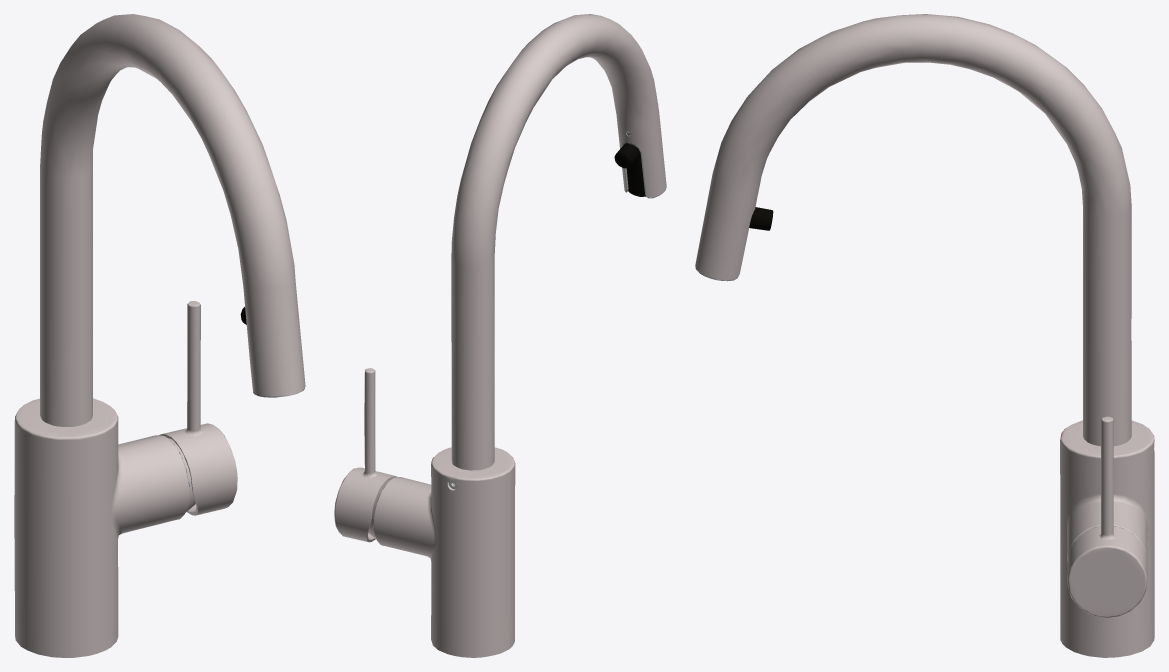
Rendered from sallsjon_bateria_z_wyciagana_wylewka_90608937.glb.
3 renders of one model, left to right at view 1: azimuth 30°, elevation 25°; view 2: azimuth 150°, elevation 25°; view 3: azimuth 270°, elevation 25°, orthographic. The views are drawn at different scales.
Parts seen in each view (by area): view 1: sallsjon_bateria_z_wyciagana_wylewka_90608937; view 2: sallsjon_bateria_z_wyciagana_wylewka_90608937; view 3: sallsjon_bateria_z_wyciagana_wylewka_90608937.
Part boxes in pixels (bbox=[...]): sallsjon_bateria_z_wyciagana_wylewka_90608937: bbox=[14, 14, 305, 657]; sallsjon_bateria_z_wyciagana_wylewka_90608937: bbox=[334, 14, 666, 657]; sallsjon_bateria_z_wyciagana_wylewka_90608937: bbox=[695, 14, 1154, 657].
Bounding box in the file's own units: 0.1116 × 0.3707 × 0.2484.
Materials: 1 (1 with a texture image).
